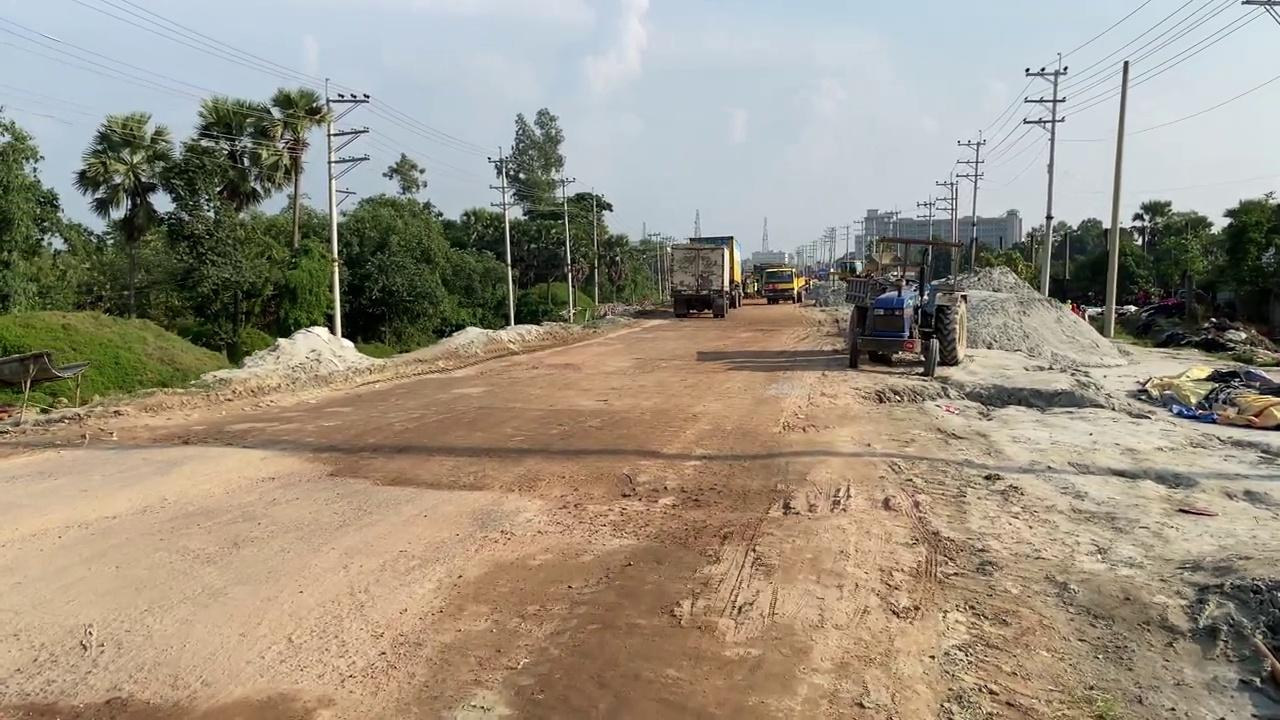Garbage: (1135, 364, 1278, 429)
Muddy road: (1, 300, 1278, 718)
Pole: (1102, 59, 1129, 337), (324, 77, 342, 338), (560, 175, 575, 322)
Traffic-sign: (173, 93, 288, 365), (71, 109, 176, 319), (260, 85, 333, 249)
Tree: (843, 234, 968, 377), (667, 241, 730, 318), (688, 235, 743, 308), (760, 265, 805, 304), (744, 262, 786, 298)
